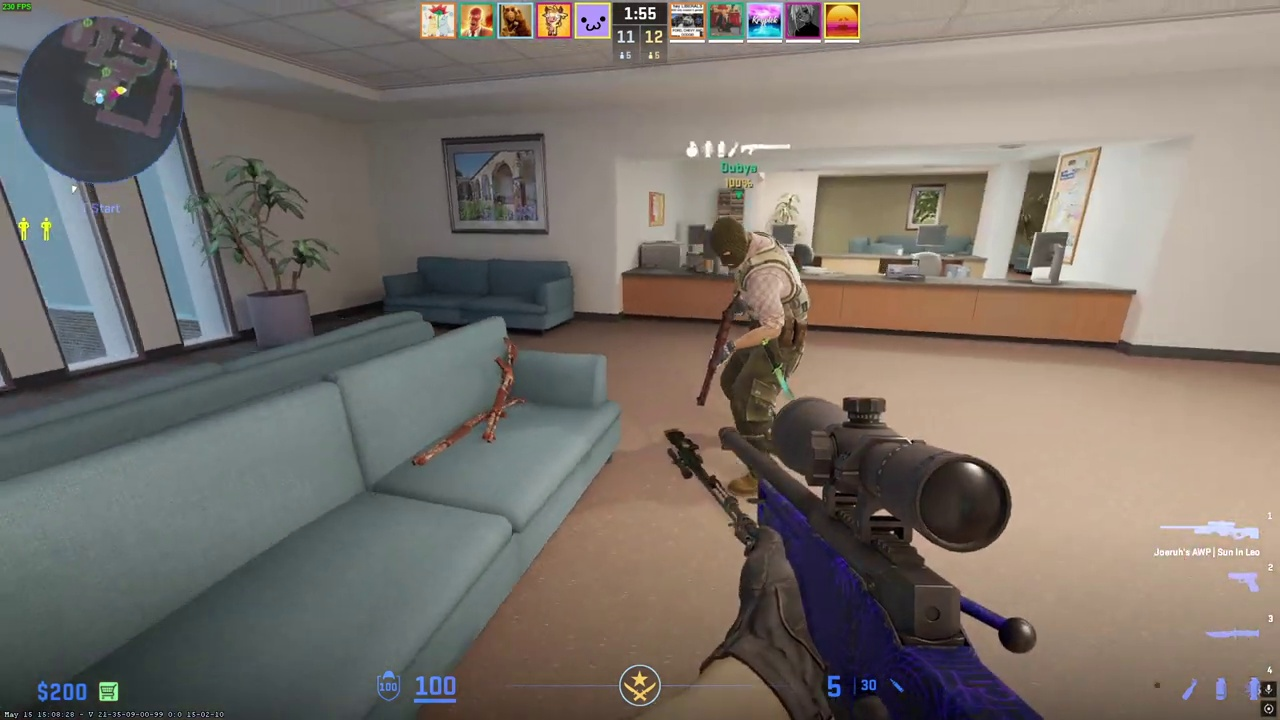Terrorist: (701, 216, 807, 449)
